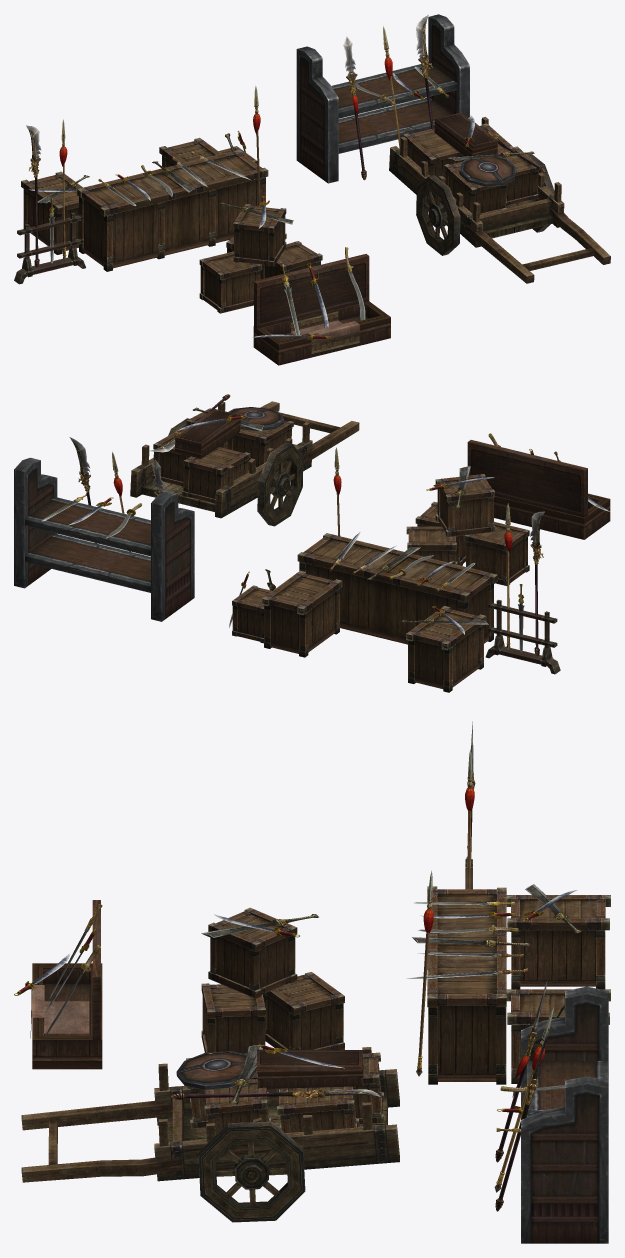
File: ancient_weapons_pack.FBX
The picture shows the model from 3 angles, top to bottom: view 1: azimuth 30°, elevation 25°; view 2: azimuth 150°, elevation 25°; view 3: azimuth 270°, elevation 25°; orthographic projection. The views are drawn at different scales.
Parts seen in each view (by area): view 1: box05, Weapon rack02, cart, box04, box10, box01, box08, box03, Weapon rack01, box09, cloth01, shield (+5 smaller); view 2: Weapon rack02, box05, box04, cart, box07, box10, box08, box03, box01, Weapon rack01, box09, box06 (+6 smaller); view 3: cart, Weapon rack02, box05, box08, box10, box04, box03, box11, box09, box02, box07, shield (+6 smaller).
Part boxes in pixels (bbox=[...]): box05: bbox=[77, 149, 268, 271]; Weapon rack02: bbox=[296, 14, 469, 183]; cart: bbox=[389, 117, 610, 283]; box04: bbox=[253, 254, 390, 365]; box10: bbox=[403, 123, 539, 214]; box01: bbox=[199, 251, 262, 313]; box08: bbox=[21, 171, 82, 254]; box03: bbox=[233, 204, 286, 266]; Weapon rack01: bbox=[14, 212, 85, 284]; box09: bbox=[434, 112, 497, 156]; cloth01: bbox=[290, 311, 359, 353]; shield: bbox=[459, 157, 516, 186]; Weapon rack02: bbox=[14, 457, 194, 621]; box05: bbox=[297, 533, 497, 644]; box04: bbox=[467, 440, 610, 539]; cart: bbox=[130, 401, 359, 526]; box07: bbox=[262, 570, 342, 657]; box10: bbox=[152, 408, 293, 504]; box08: bbox=[406, 606, 486, 692]; box03: bbox=[435, 474, 494, 537]; box01: bbox=[464, 521, 529, 585]; Weapon rack01: bbox=[485, 599, 560, 674]; box09: bbox=[175, 409, 240, 458]; box06: bbox=[232, 585, 271, 643]; cart: bbox=[21, 1047, 399, 1222]; Weapon rack02: bbox=[521, 986, 608, 1243]; box05: bbox=[427, 886, 506, 1084]; box08: bbox=[506, 895, 610, 989]; box10: bbox=[186, 1052, 384, 1134]; box04: bbox=[32, 900, 102, 1069]; box03: bbox=[208, 907, 297, 998]; box11: bbox=[262, 972, 344, 1049]; box09: bbox=[256, 1049, 363, 1088]; box02: bbox=[201, 983, 265, 1053]; box07: bbox=[506, 989, 610, 1083]; shield: bbox=[176, 1050, 256, 1090].
Size of the model in its own units: 1187 by 368 by 930.
